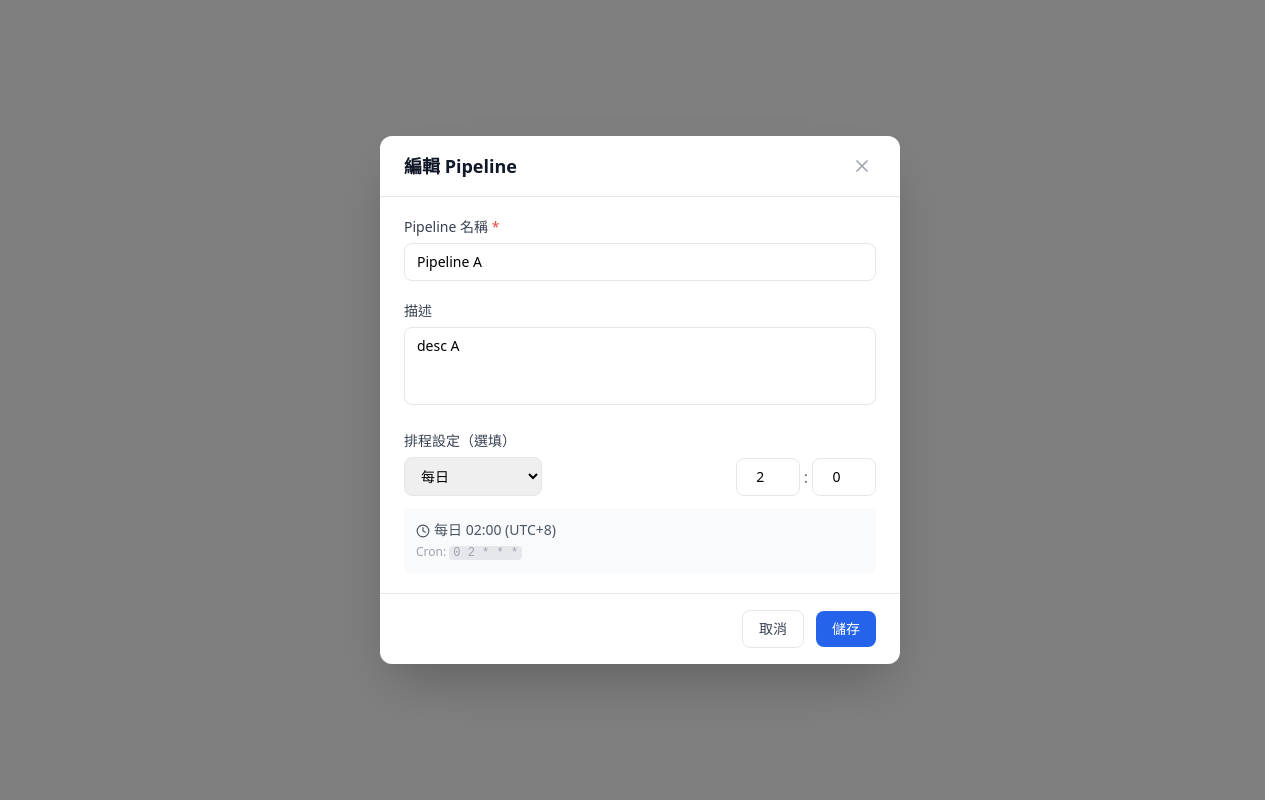
Test: EditPipelineModal (F093) › TS-F093-FE-015: maps PIPELINE_NAME_EXISTS to inline error and keeps modal open
Replace the text in the field with test id "pipeline-name-input" with "重複". click: (640, 262)
box: [404,243,876,281]
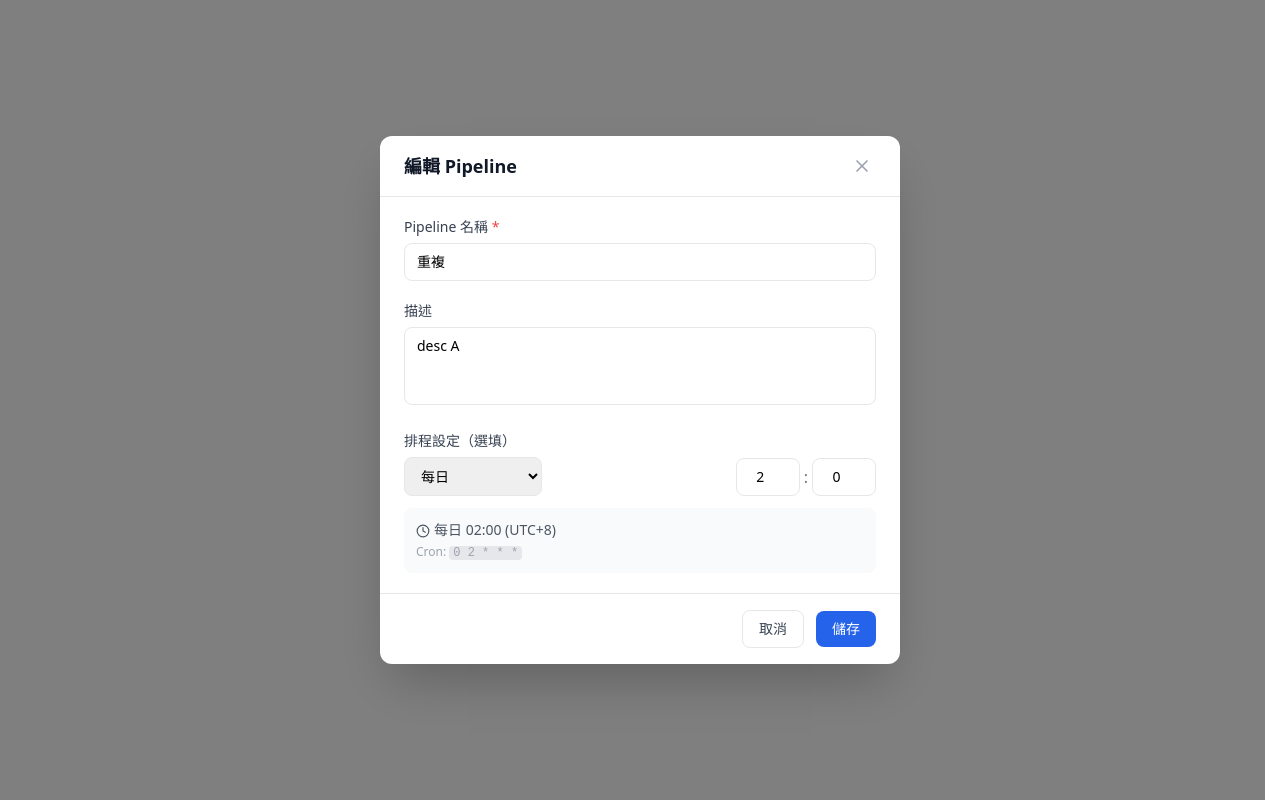
Click the button with test id "edit-pipeline-submit". click: (846, 629)
box: [816,611,876,647]
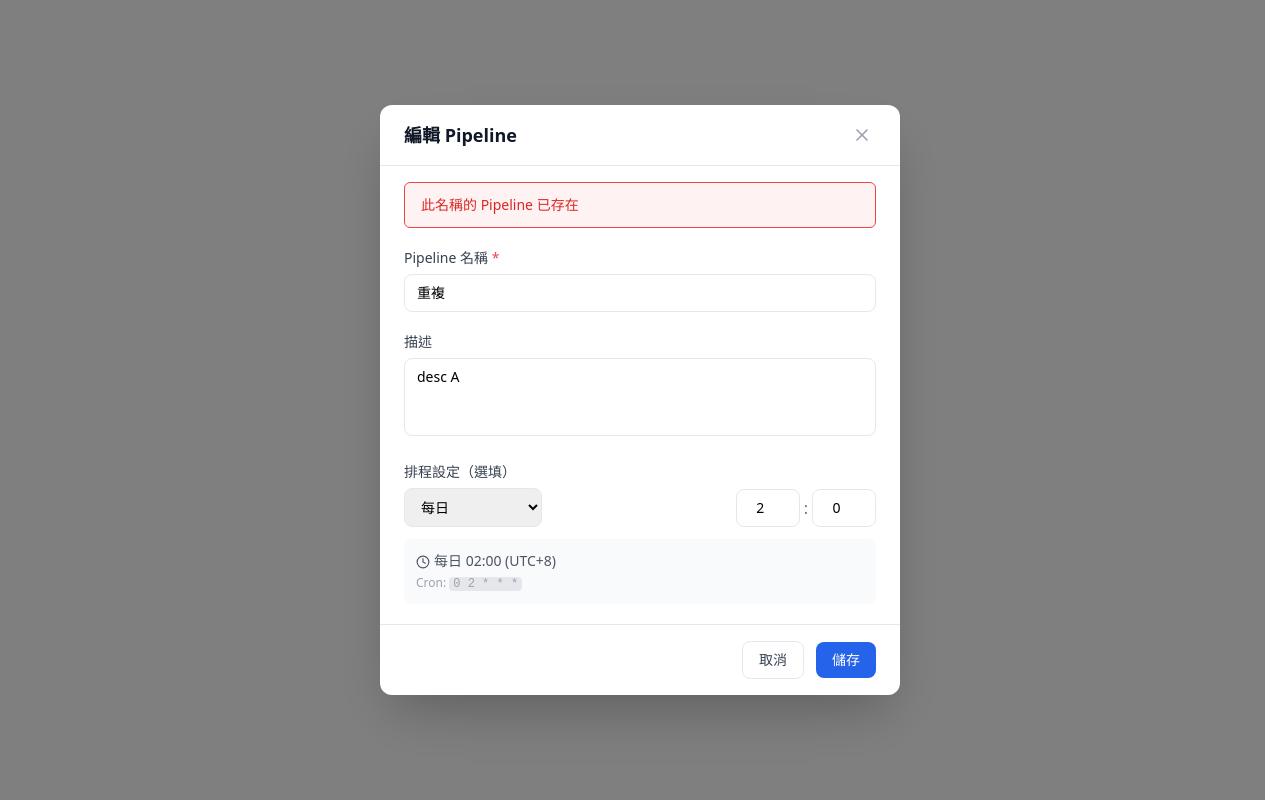
Check: the element with test id "edit-pipeline-modal" is shown, box [380,105,900,695]
Check: the text "此名稱的 Pipeline 已存在" is shown, box [404,182,876,228]
